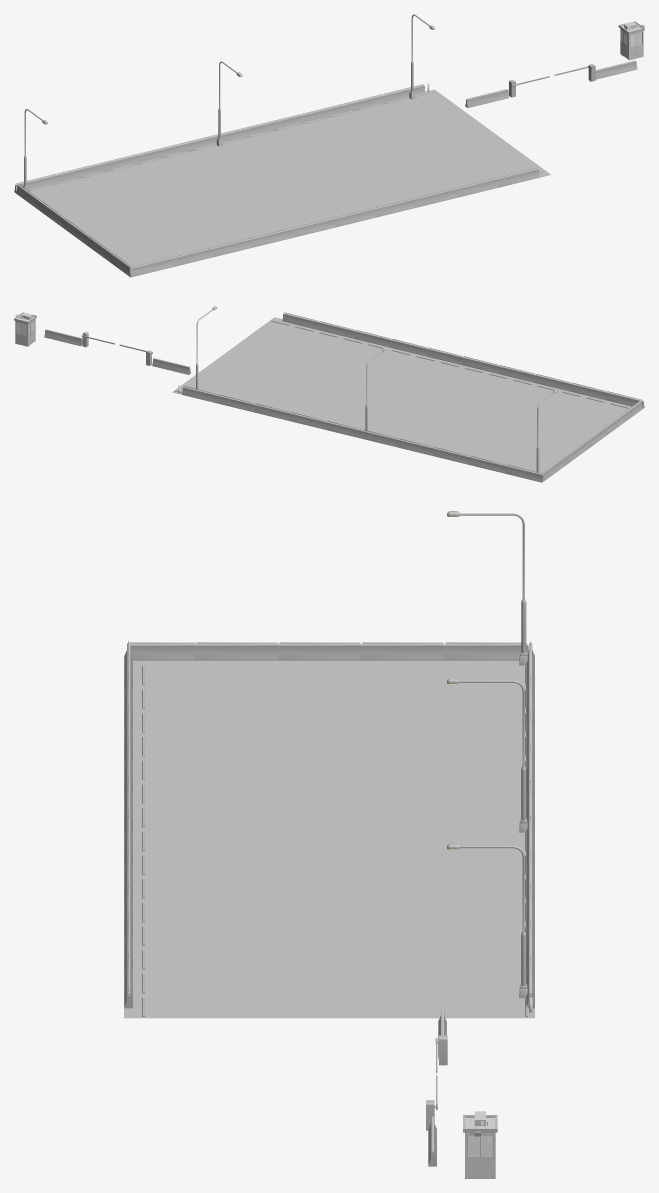
File: estacionamento update.fbx
3 renders of one model, top to bottom at view 1: azimuth 30°, elevation 25°; view 2: azimuth 150°, elevation 25°; view 3: azimuth 270°, elevation 25°, orthographic. The views are drawn at different scales.
Visible parts, largest first — view 1: polySurface1, polySurface45, polySurface46, polySurface20, polySurface24, polySurface29, polySurface27, polySurface21, polySurface23, polySurface25, polySurface26, polySurface28 (+8 smaller); view 2: polySurface1, polySurface46, polySurface45, polySurface30, polySurface25, polySurface31, polySurface39, polySurface29, polySurface36, polySurface33, polySurface24, polySurface27 (+12 smaller); view 3: polySurface1, polySurface42, polySurface41, polySurface43, polySurface40, polySurface44.
Part boxes in pixels (bbox=[...]): polySurface1: bbox=[14, 89, 550, 277]; polySurface45: bbox=[465, 76, 549, 107]; polySurface46: bbox=[554, 60, 637, 81]; polySurface20: bbox=[128, 258, 172, 277]; polySurface24: bbox=[293, 218, 335, 237]; polySurface29: bbox=[497, 168, 539, 187]; polySurface27: bbox=[416, 188, 457, 207]; polySurface21: bbox=[171, 248, 213, 266]; polySurface23: bbox=[252, 228, 294, 247]; polySurface25: bbox=[334, 208, 376, 227]; polySurface26: bbox=[375, 198, 417, 217]; polySurface28: bbox=[456, 178, 498, 197]; polySurface1: bbox=[172, 317, 631, 482]; polySurface46: bbox=[44, 329, 114, 347]; polySurface45: bbox=[119, 344, 190, 374]; polySurface30: bbox=[505, 465, 543, 482]; polySurface25: bbox=[426, 348, 463, 365]; polySurface31: bbox=[469, 457, 506, 473]; polySurface39: bbox=[182, 387, 219, 403]; polySurface29: bbox=[282, 313, 319, 329]; polySurface36: bbox=[290, 413, 327, 429]; polySurface33: bbox=[397, 439, 434, 455]; polySurface24: bbox=[462, 357, 499, 373]; polySurface27: bbox=[354, 331, 391, 347]; polySurface1: bbox=[124, 657, 534, 1018]; polySurface42: bbox=[277, 643, 361, 660]; polySurface41: bbox=[360, 643, 445, 660]; polySurface43: bbox=[194, 643, 279, 660]; polySurface40: bbox=[443, 643, 528, 660]; polySurface44: bbox=[129, 643, 196, 660].
Bounding box in the file's own units: 5226 × 705 × 1721.
